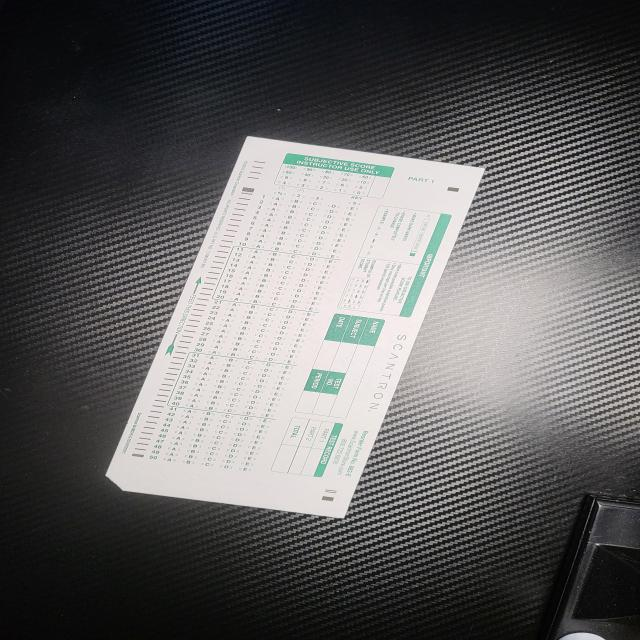scantron: (105, 136, 487, 520)
